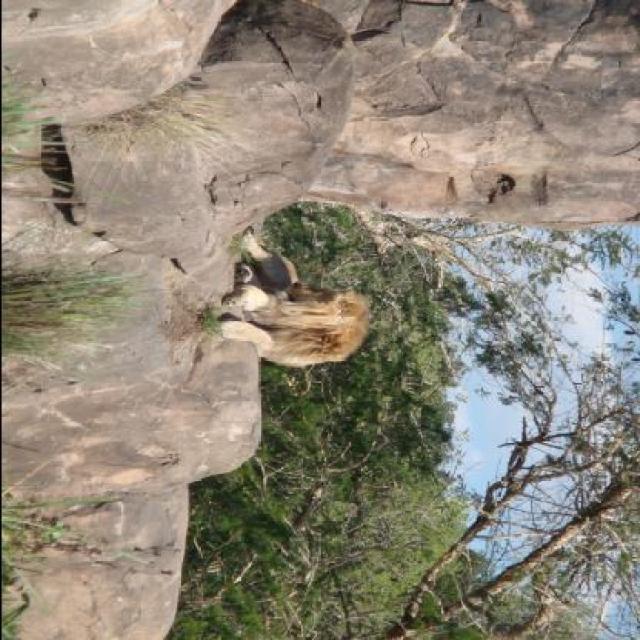Lion: (192, 218, 374, 388)
